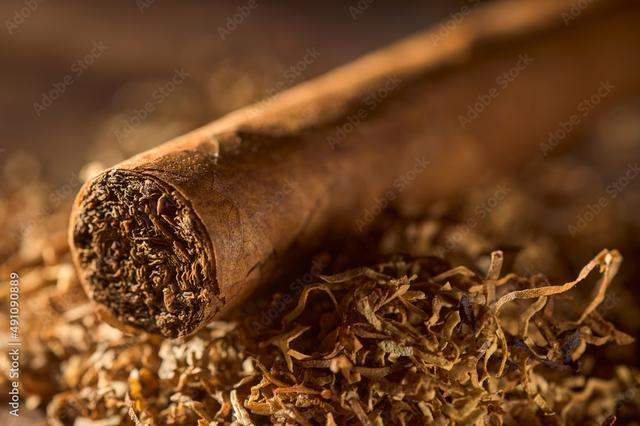Cigar: (65, 0, 639, 341)
